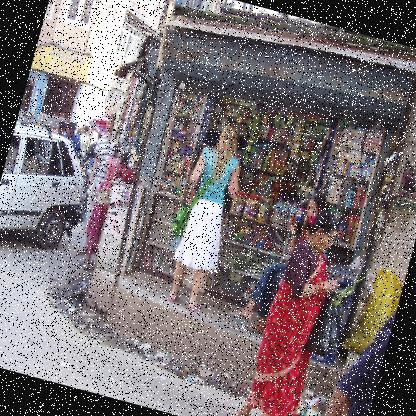Car: (0, 110, 107, 265)
